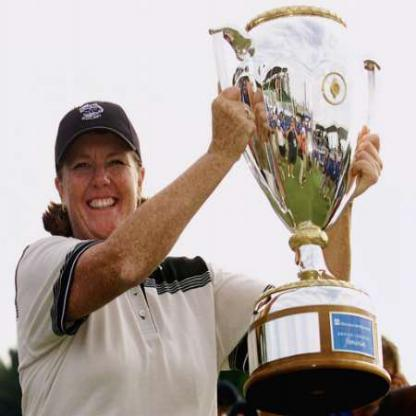face: (62, 103, 139, 240)
